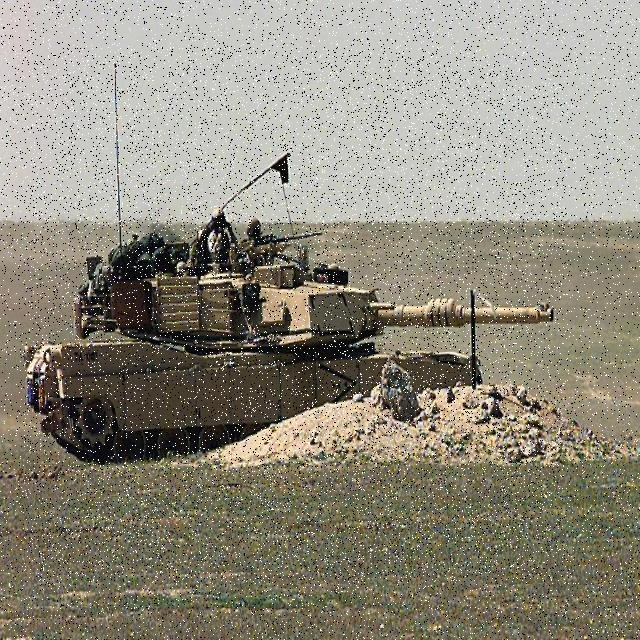MIL_MBT: (25, 48, 564, 581)
